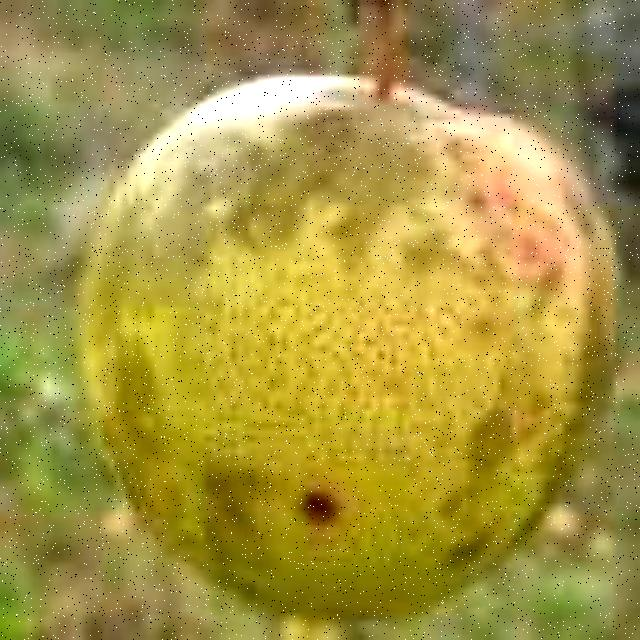BLOTCH: (40, 60, 640, 638)
